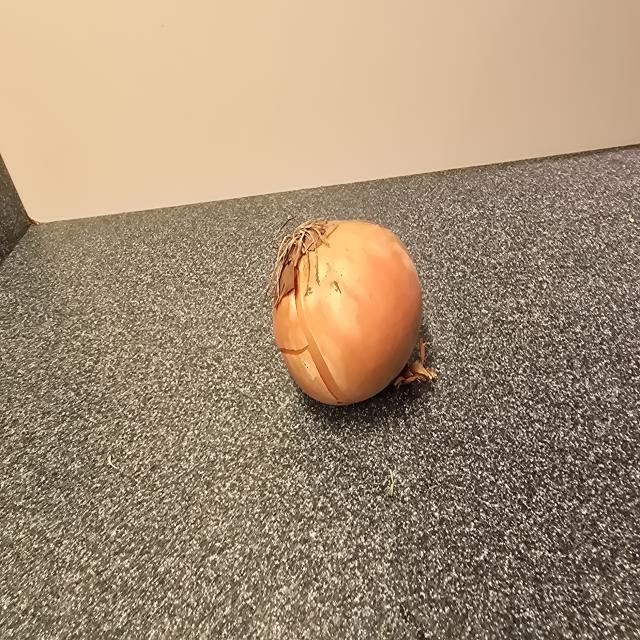Onion: (267, 219, 436, 405)
